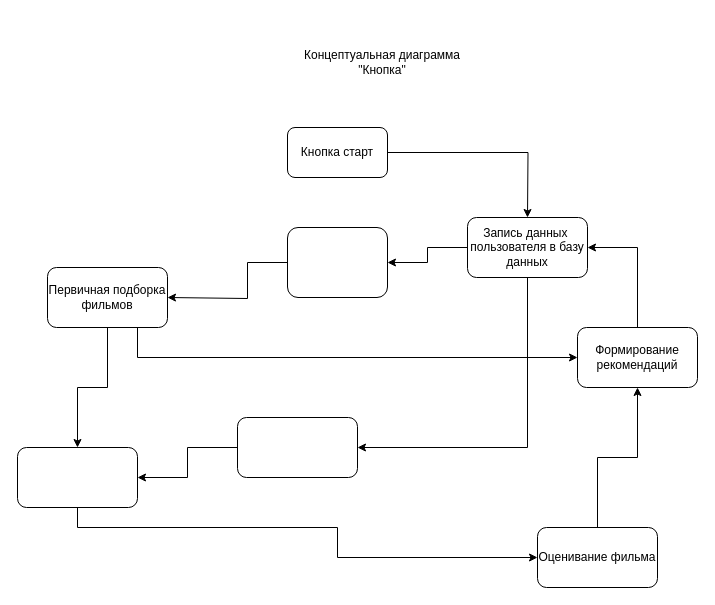
This 715x605 diagram has some shape labels left out. The shapes that lost their labels are listed below. From the top down, each one's centre as x and y in pixels, then its label:
At pixel 337 262: "Выбор интересующих жанров, актеров, режиссеров".
At pixel 297 447: "Поиск фильма".
At pixel 77 477: "Страница фильма".
